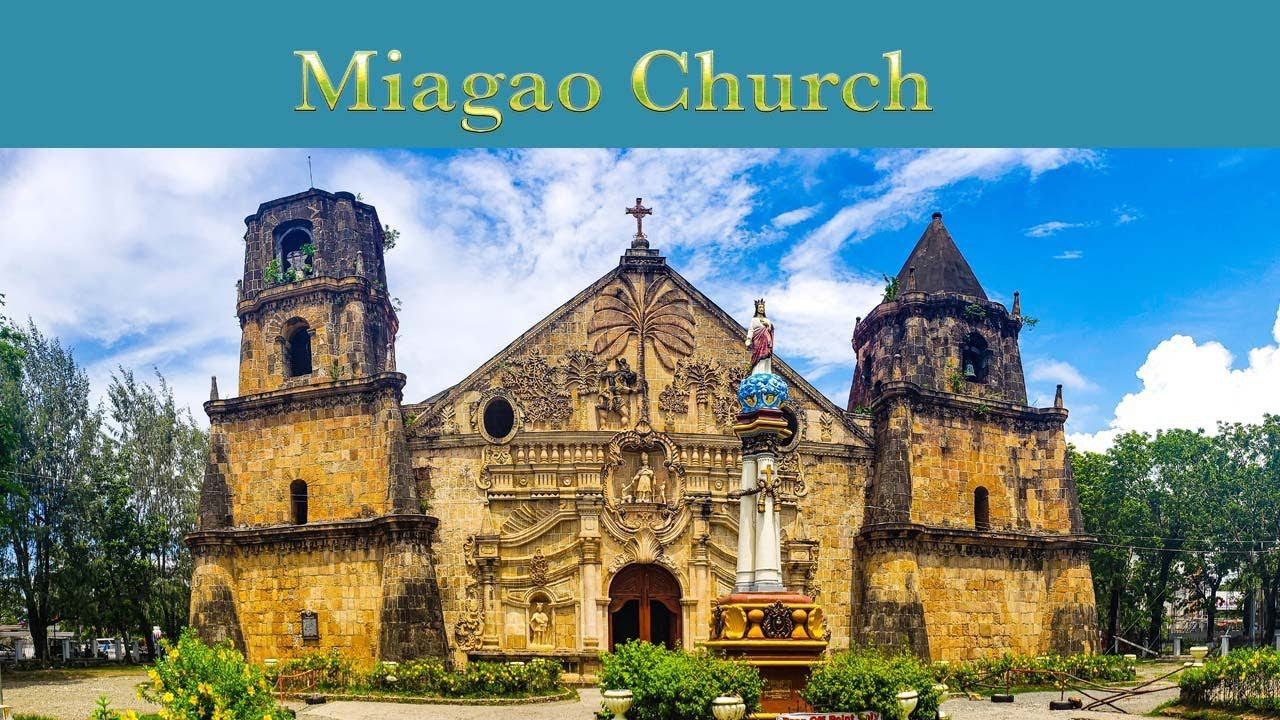miagao_church_miagao_iloilo: (167, 151, 1119, 675)
